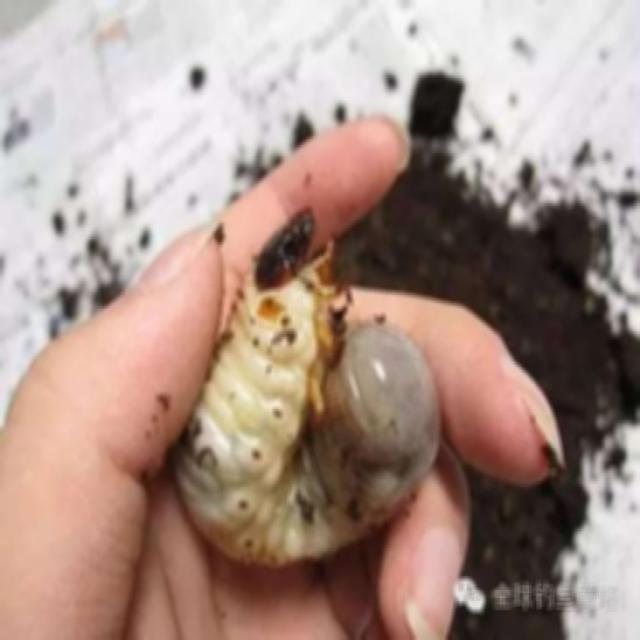grub: (185, 221, 455, 586)
